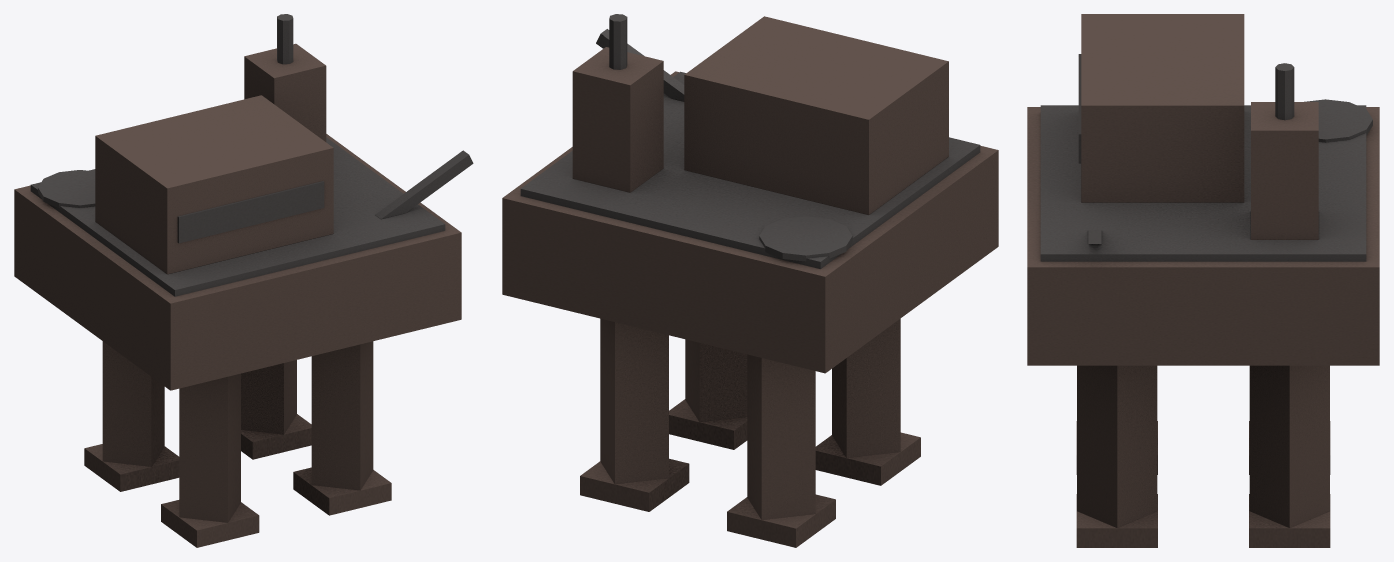
The model's file is dead_rig_script.glb.
3 views of the same model, side by side, from view 1: azimuth 30°, elevation 25°; view 2: azimuth 150°, elevation 25°; view 3: azimuth 270°, elevation 25° (orthographic). The views are drawn at different scales.
Parts seen in each view (by area): view 1: Cube; view 2: Cube; view 3: Cube.
Part boxes in pixels (bbox=[...]): Cube: bbox=[14, 14, 473, 547]; Cube: bbox=[502, 14, 998, 547]; Cube: bbox=[1027, 14, 1379, 547].
Size of the model in its own units: 31.74 by 38.5 by 26.
Materials: 1 (1 with a texture image).
